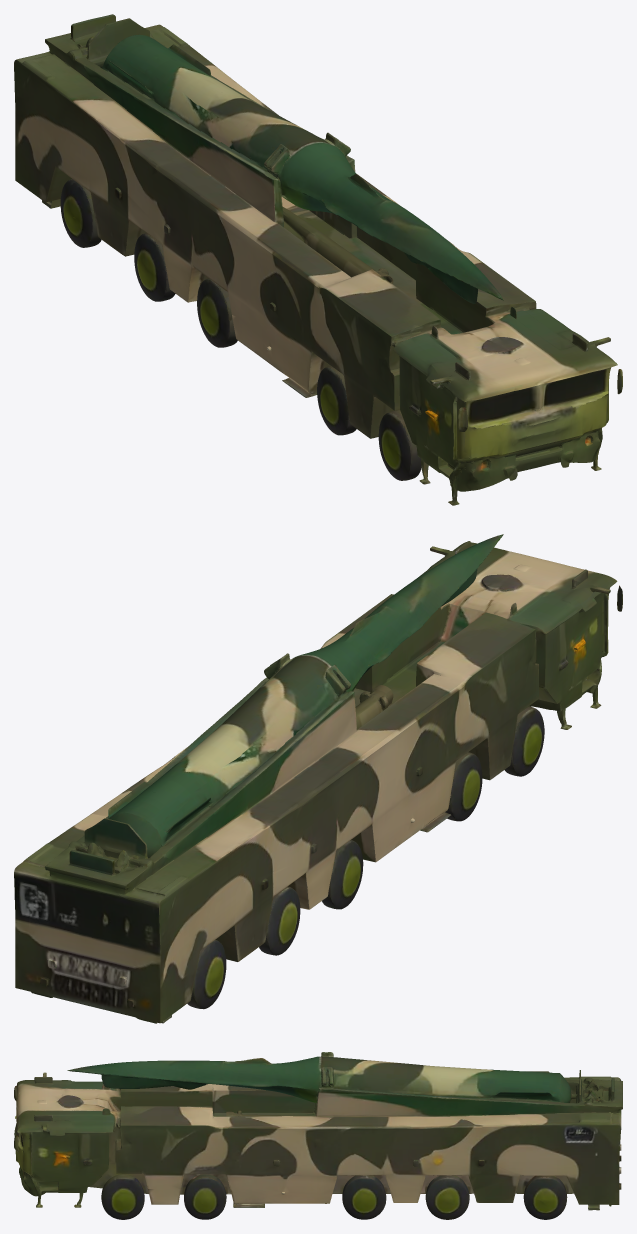
3 renders of one model, top to bottom at view 1: azimuth 30°, elevation 25°; view 2: azimuth 150°, elevation 25°; view 3: azimuth 270°, elevation 25°, orthographic. The views are drawn at different scales.
Visible parts, largest first — view 1: Object_2; view 2: Object_2; view 3: Object_2.
Part boxes in pixels (bbox=[...]): Object_2: bbox=[14, 14, 622, 505]; Object_2: bbox=[14, 534, 622, 1023]; Object_2: bbox=[14, 1052, 622, 1219].
Bounding box in the file's own units: 0.4261 × 0.4841 × 1.9.
Materials: 1 (1 with a texture image).
